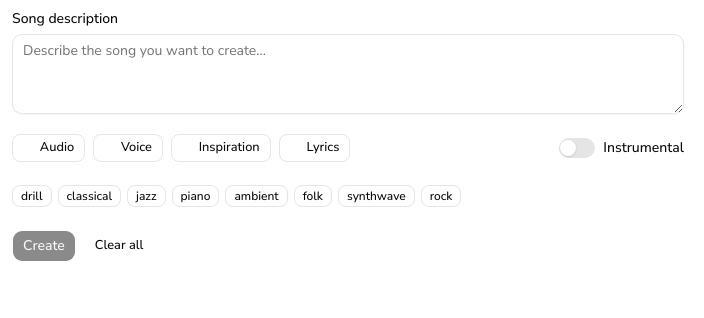
Test: SimpleCreationForm › submits, polls, and surfaces the completed clips
In the text box labelled "Song description": (348, 74) [12,34,684,114], type "dreamy"
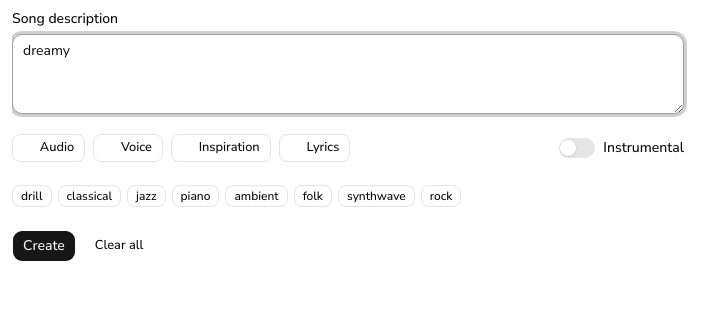
Click the switch named "Instrumental": (577, 148) [559,138,595,158]
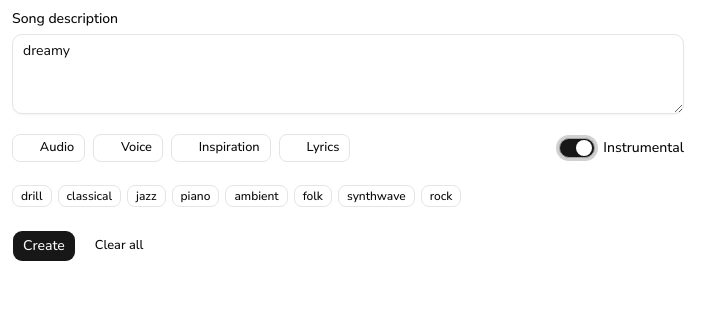
Click the button "Create": (44, 246) [12,230,76,262]
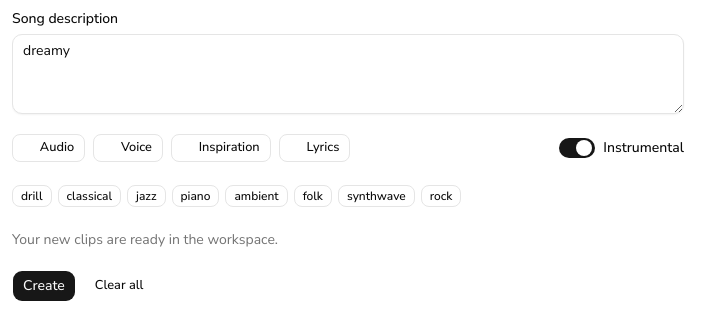
Expected: the text "Your new clips are ready in the workspace." is shown, [12,230,278,249]
